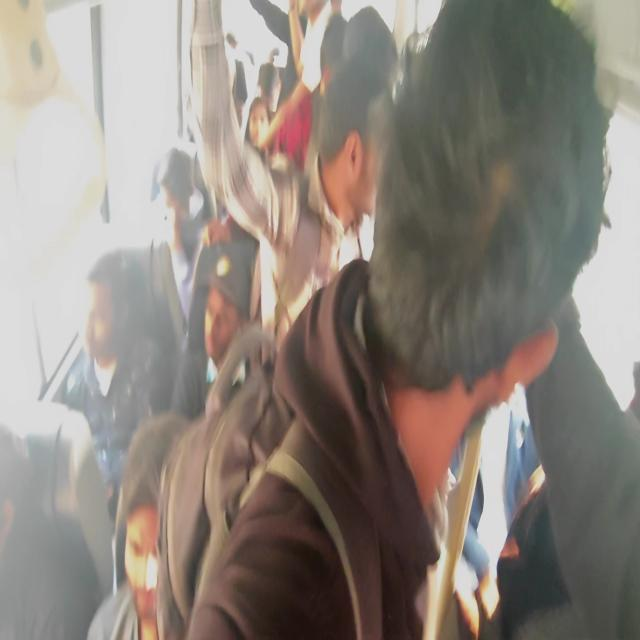person: (148, 225, 290, 638), (260, 8, 396, 342), (372, 219, 559, 396), (64, 244, 175, 522), (0, 409, 106, 636), (89, 414, 182, 640), (176, 240, 260, 420), (496, 464, 572, 640), (318, 9, 401, 156), (262, 4, 328, 168), (152, 146, 209, 329), (448, 432, 493, 609), (502, 400, 540, 531), (22, 425, 66, 520), (200, 238, 255, 312), (84, 270, 120, 368), (223, 34, 256, 140), (88, 249, 147, 306), (252, 61, 286, 159), (204, 204, 254, 254), (155, 147, 195, 197), (287, 0, 311, 80), (320, 9, 348, 73), (0, 422, 28, 485), (260, 62, 282, 98), (225, 32, 238, 50), (267, 47, 280, 65), (329, 0, 343, 14)
